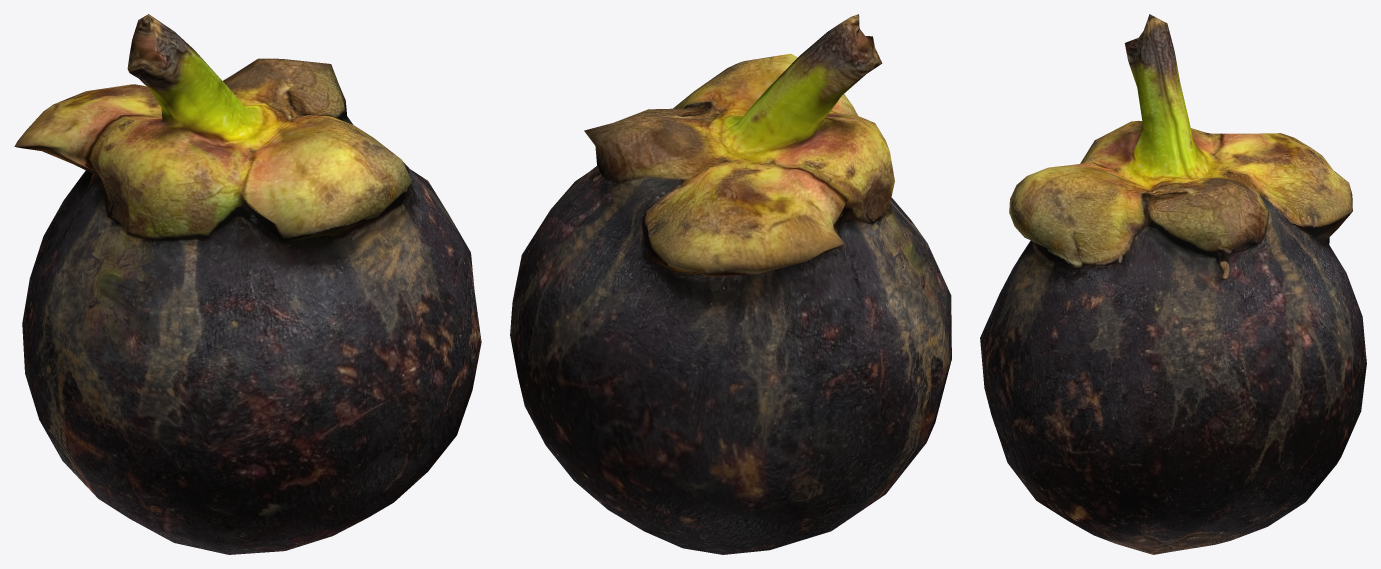
File: A129_Mangosteen_low.fbx
3 renders of one model, left to right at view 1: azimuth 30°, elevation 25°; view 2: azimuth 150°, elevation 25°; view 3: azimuth 270°, elevation 25°, orthographic. The views are drawn at different scales.
Visible parts, largest first — view 1: A129_Mangosteen_low; view 2: A129_Mangosteen_low; view 3: A129_Mangosteen_low.
Part boxes in pixels (box(x1,y1,x2,y2)): A129_Mangosteen_low: box(14, 14, 481, 554); A129_Mangosteen_low: box(510, 14, 951, 554); A129_Mangosteen_low: box(980, 14, 1366, 554).
Bounding box in the file's own units: 4.77 × 4.66 × 6.31.
Materials: 1 (1 with a texture image).
